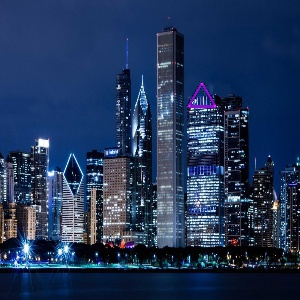triangle: (185, 80, 219, 111)
